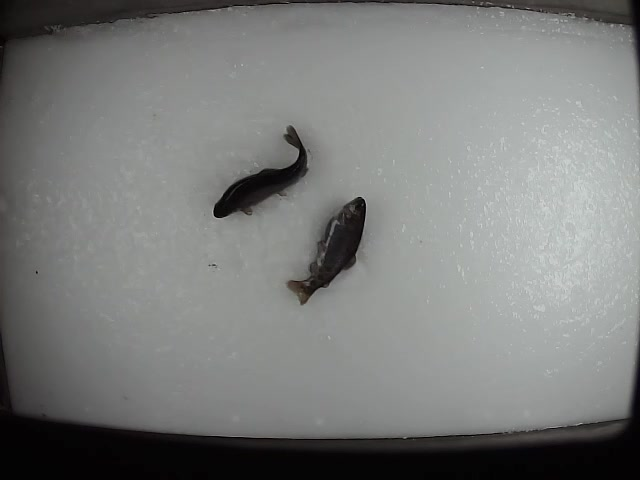Fish: (214, 125, 308, 218), (287, 197, 366, 306)
